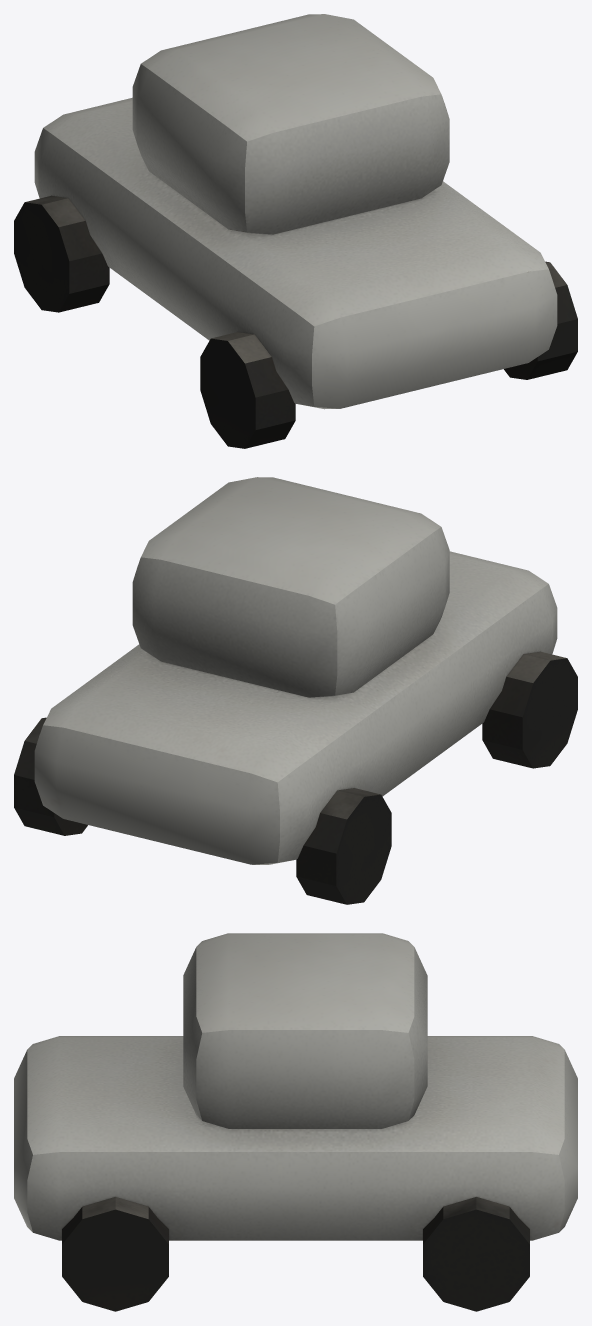
The model's file is H_ToyCar.fbx.
The picture shows the model from 3 angles, top to bottom: view 1: azimuth 30°, elevation 25°; view 2: azimuth 150°, elevation 25°; view 3: azimuth 270°, elevation 25°; orthographic projection. The views are drawn at different scales.
Visible parts, largest first — view 1: H_ToyCar; view 2: H_ToyCar; view 3: H_ToyCar.
Part boxes in pixels (x1,y1,x2,y2): H_ToyCar: (14, 14, 577, 448); H_ToyCar: (14, 477, 577, 904); H_ToyCar: (14, 933, 577, 1311).
Bounding box in the file's own units: 96 × 78 × 150.
Materials: 1 (1 with a texture image).
